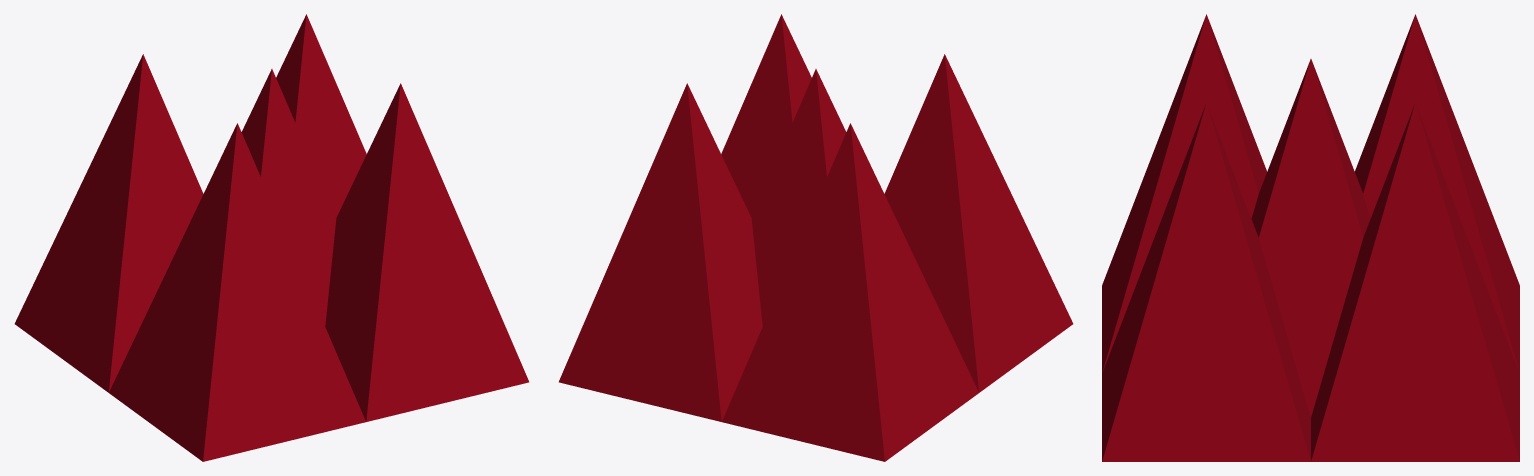
Rendered from red_spikes_v15.fbx.
3 views of the same model, side by side, from view 1: azimuth 30°, elevation 25°; view 2: azimuth 150°, elevation 25°; view 3: azimuth 270°, elevation 25° (orthographic). The views are drawn at different scales.
Visible parts, largest first — view 1: default; view 2: default; view 3: default.
Boxes of the visible parts, bbox=[...] form: default: bbox=[14, 14, 528, 461]; default: bbox=[559, 14, 1073, 461]; default: bbox=[1102, 14, 1519, 461].
Bounding box in the file's own units: 36 × 30 × 36.
